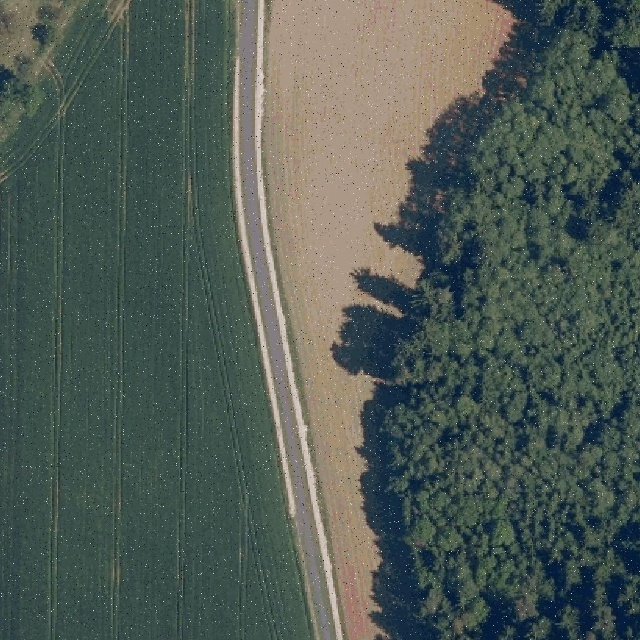vegetation: (386, 0, 640, 640)
